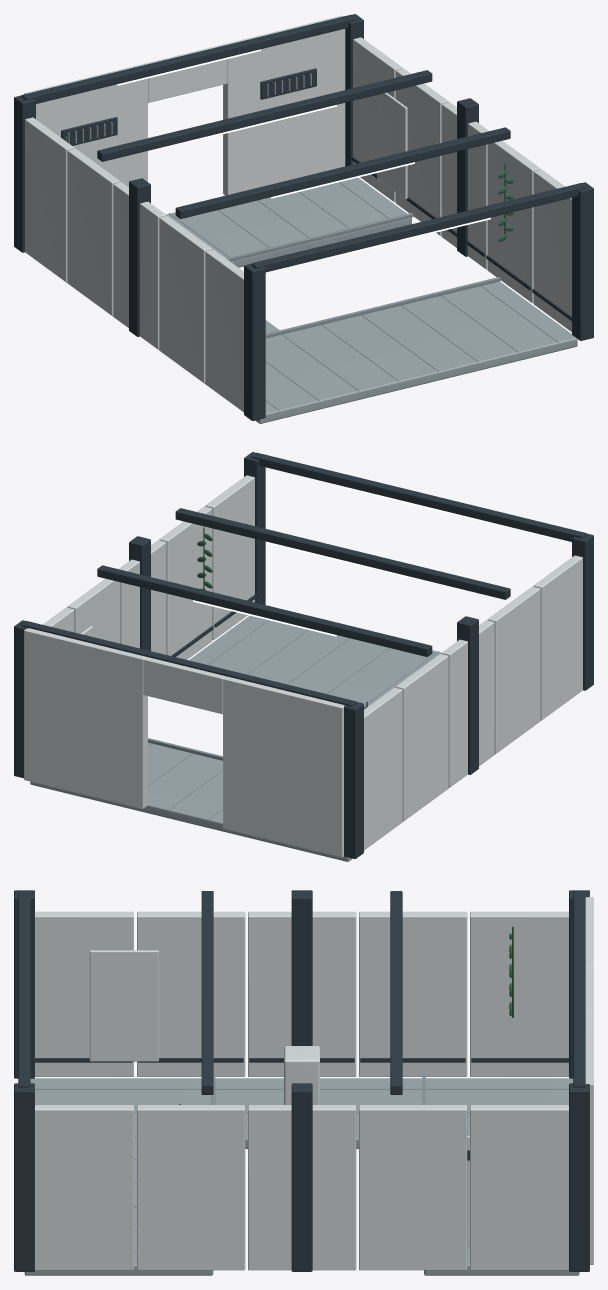
File: room3.glb
3 renders of one model, top to bottom at view 1: azimuth 30°, elevation 25°; view 2: azimuth 150°, elevation 25°; view 3: azimuth 270°, elevation 25°, orthographic. The views are drawn at different scales.
Parts seen in each view (by area): view 1: Near platform.002, Rear wall 2.002, Final platform, Wall structural -1_3.002, Wall structural -1_1.002, Rear wall -2.002, Wall structural -1_4.002, Wall structural 1_1.002, Wall structural -1_0.002, Wall structural -1_2.002, Wall structural 1_0.002, Wall structural 1_3.002 (+18 smaller); view 2: Rear wall 2.002, Rear wall -2.002, Near platform.002, Wall structural -1_1.002, Wall structural -1_3.002, Final platform, Wall structural -1_0.002, Wall structural -1_4.002, Wall structural 1_1.002, Wall structural -1_2.002, Wall structural 1_0.002, Roof beam 6.002 (+12 smaller); view 3: Wall structural 1_1.002, Wall structural 1_3.002, Wall structural 1_0.002, Wall structural 1_4.002, Wall structural -1_3.002, Wall structural -1_4.002, Wall structural 1_2.002, Wall structural -1_2.002, Wall structural -1_1.002, Wall structural -1_0.002, Near portal candidate.002, Near platform.002 (+15 smaller).
Part boxes in pixels (bbox=[...]): Near platform.002: bbox=[204, 281, 577, 423]; Rear wall 2.002: bbox=[223, 15, 345, 195]; Final platform: bbox=[66, 177, 411, 282]; Wall structural -1_3.002: bbox=[67, 148, 120, 315]; Wall structural -1_1.002: bbox=[159, 216, 212, 383]; Rear wall -2.002: bbox=[24, 64, 147, 186]; Wall structural -1_4.002: bbox=[25, 117, 74, 282]; Wall structural 1_1.002: bbox=[487, 140, 540, 303]; Wall structural -1_0.002: bbox=[205, 249, 243, 412]; Wall structural -1_2.002: bbox=[113, 182, 166, 349]; Wall structural 1_0.002: bbox=[533, 169, 571, 331]; Wall structural 1_3.002: bbox=[395, 68, 448, 235]; Rear wall 2.002: bbox=[24, 628, 147, 808]; Rear wall -2.002: bbox=[223, 676, 344, 857]; Near platform.002: bbox=[189, 615, 541, 720]; Wall structural -1_1.002: bbox=[487, 586, 540, 753]; Wall structural -1_3.002: bbox=[395, 654, 448, 821]; Final platform: bbox=[30, 742, 403, 861]; Wall structural -1_0.002: bbox=[533, 555, 582, 720]; Wall structural -1_4.002: bbox=[364, 687, 402, 850]; Wall structural 1_1.002: bbox=[159, 506, 212, 659]; Wall structural -1_2.002: bbox=[441, 620, 494, 787]; Wall structural 1_0.002: bbox=[205, 475, 254, 640]; Roof beam 6.002: bbox=[97, 565, 432, 656]; Wall structural 1_1.002: bbox=[137, 1105, 245, 1270]; Wall structural 1_3.002: bbox=[359, 1105, 467, 1270]; Wall structural 1_0.002: bbox=[35, 1105, 133, 1270]; Wall structural 1_4.002: bbox=[470, 1105, 568, 1270]; Wall structural -1_3.002: bbox=[359, 911, 467, 1076]; Wall structural -1_4.002: bbox=[470, 911, 568, 1076]; Wall structural 1_2.002: bbox=[248, 1105, 356, 1270]; Wall structural -1_2.002: bbox=[248, 911, 356, 1076]; Wall structural -1_1.002: bbox=[137, 911, 245, 1076]; Wall structural -1_0.002: bbox=[35, 911, 133, 1076]; Near portal candidate.002: bbox=[89, 950, 158, 1061]; Near platform.002: bbox=[24, 1078, 213, 1275].
Size of the model in its own units: 8.59 by 3.87 by 10.45.
